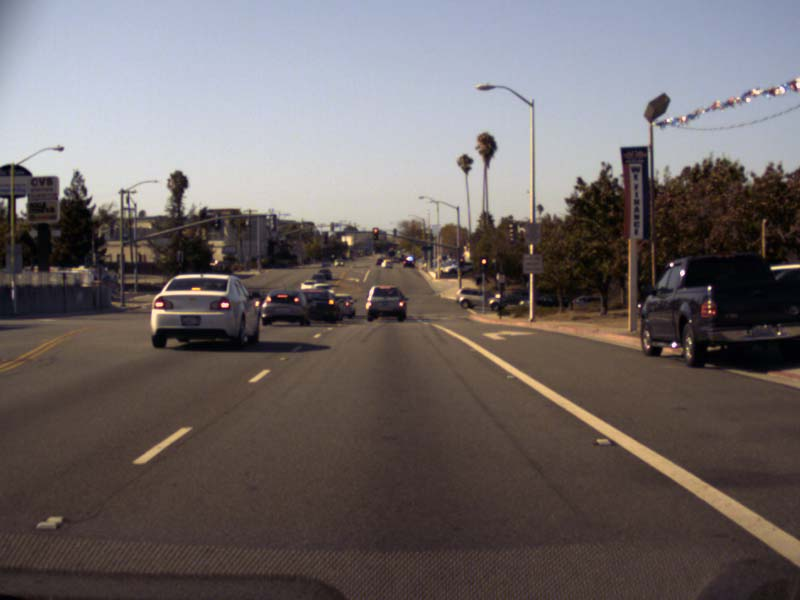Red: (480, 254, 487, 270), (372, 227, 377, 240), (458, 256, 463, 267)
